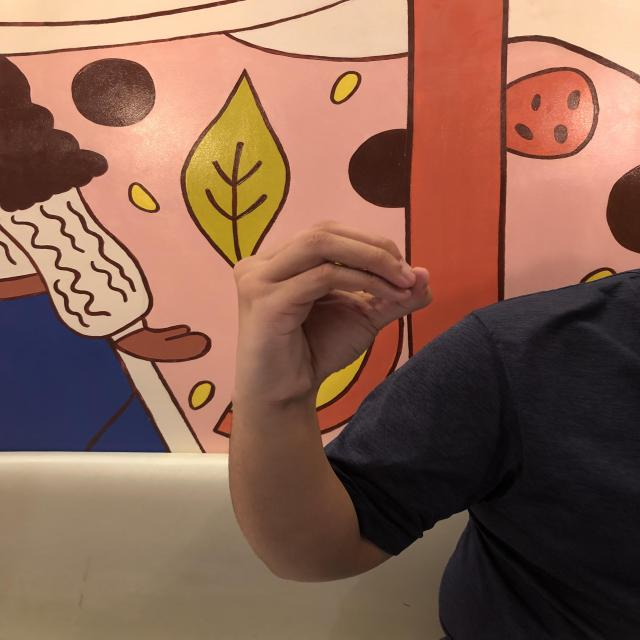O: (230, 217, 436, 402)
